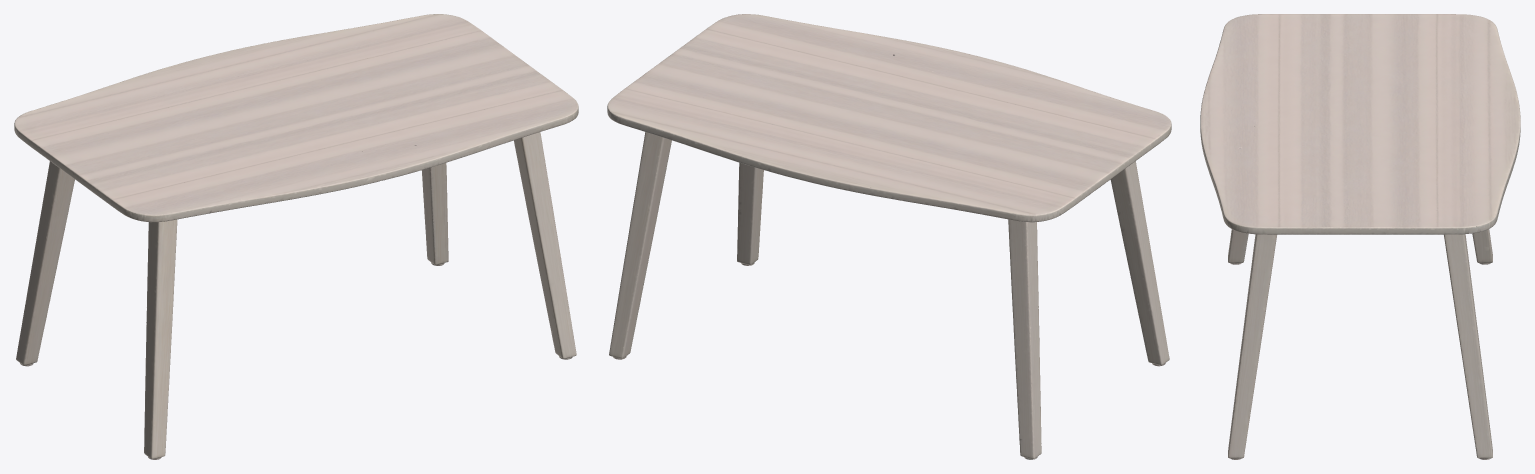
File: table.glb
The picture shows the model from 3 angles, left to right: view 1: azimuth 30°, elevation 25°; view 2: azimuth 150°, elevation 25°; view 3: azimuth 270°, elevation 25°; orthographic projection. The views are drawn at different scales.
Bounding box in the file's own units: 1.9 × 0.9891 × 1.2.
Materials: 1 (1 with a texture image).
